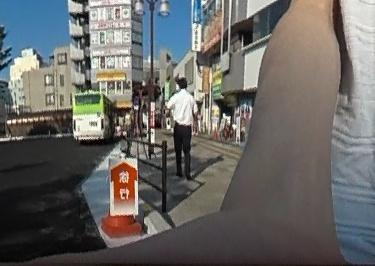person: (169, 75, 197, 179)
